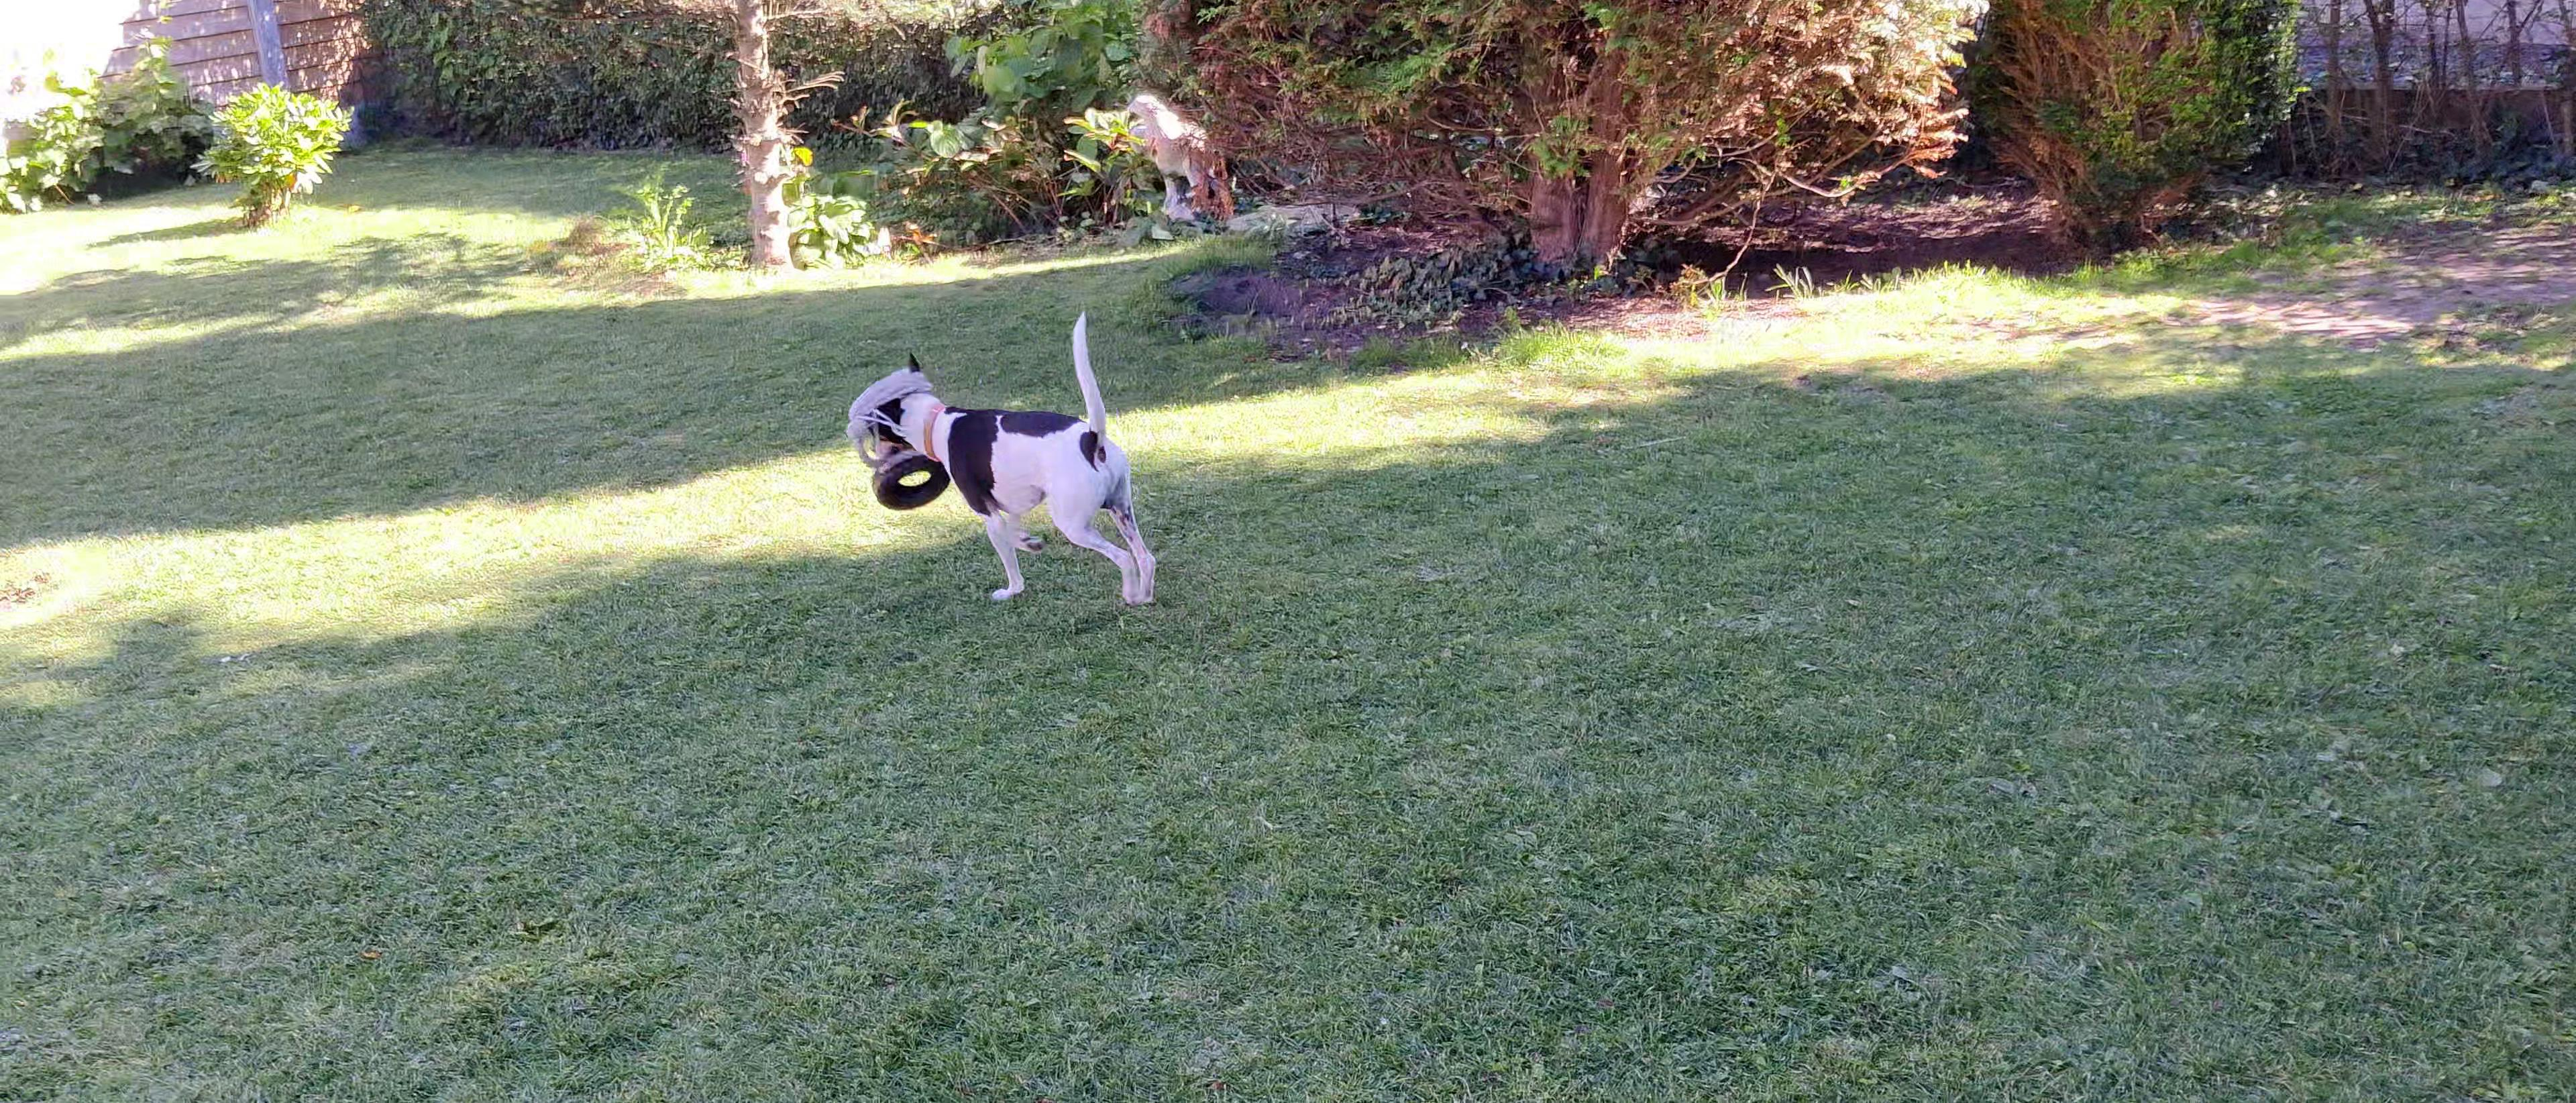Dog: (854, 309, 1161, 603)
